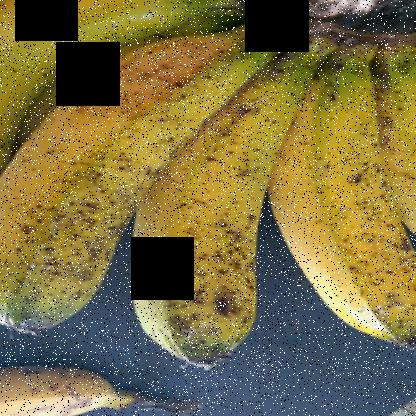freshripe: (0, 1, 206, 131)
ripe: (0, 43, 259, 336), (122, 30, 324, 375), (283, 46, 415, 340), (0, 354, 151, 415)
